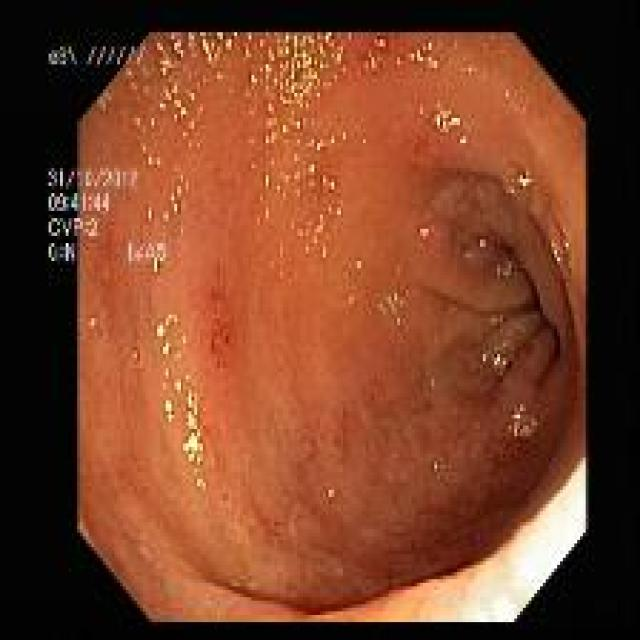ulcerative-colitis: (79, 31, 586, 622)
